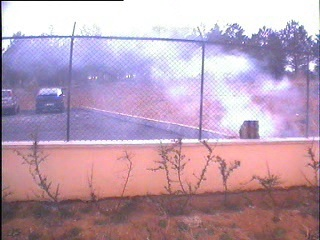smoke: (130, 27, 293, 139)
